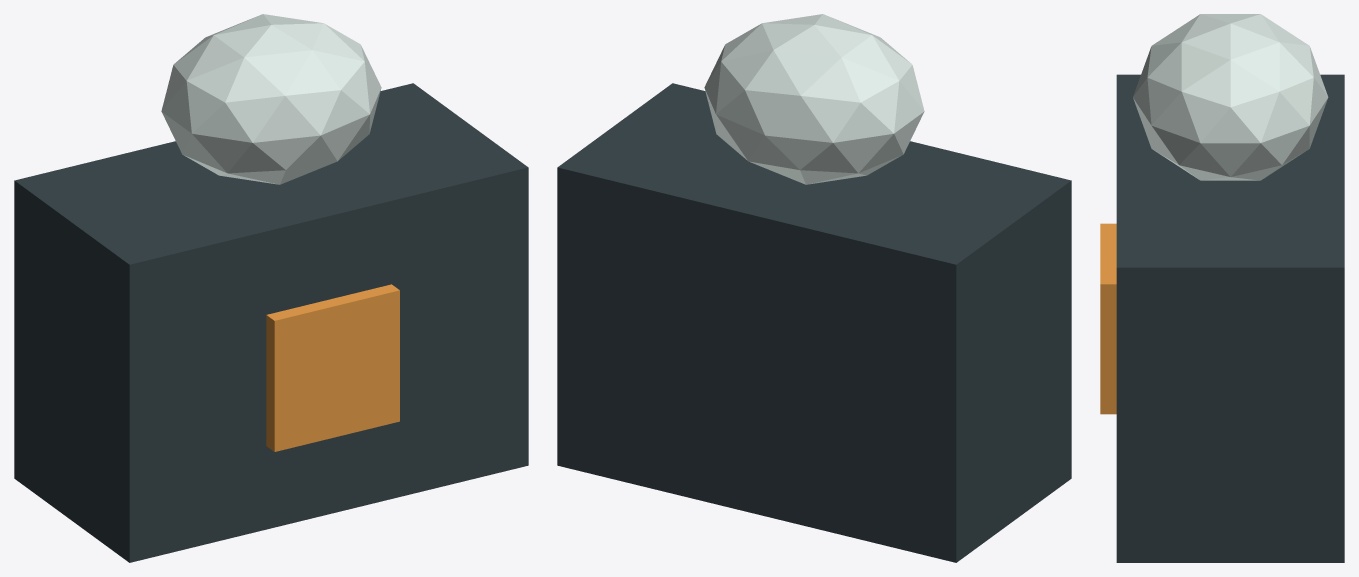
The model's file is protective_equipment_set.glb.
3 views of the same model, side by side, from view 1: azimuth 30°, elevation 25°; view 2: azimuth 150°, elevation 25°; view 3: azimuth 270°, elevation 25° (orthographic).
Visible parts, largest first — view 1: protective_equipment_set, protective_equipment_set helmet, protective_equipment_set safety marking; view 2: protective_equipment_set, protective_equipment_set helmet; view 3: protective_equipment_set, protective_equipment_set helmet, protective_equipment_set safety marking.
Boxes of the visible parts, x1,y1,x2,y2 form: protective_equipment_set: (14,83,528,562); protective_equipment_set helmet: (161,14,381,184); protective_equipment_set safety marking: (266,284,399,451); protective_equipment_set: (557,83,1071,562); protective_equipment_set helmet: (704,14,924,184); protective_equipment_set: (1116,74,1344,562); protective_equipment_set helmet: (1133,14,1328,180); protective_equipment_set safety marking: (1100,223,1116,414).
Size of the model in its own units: 1.4 by 1.5 by 0.75.
